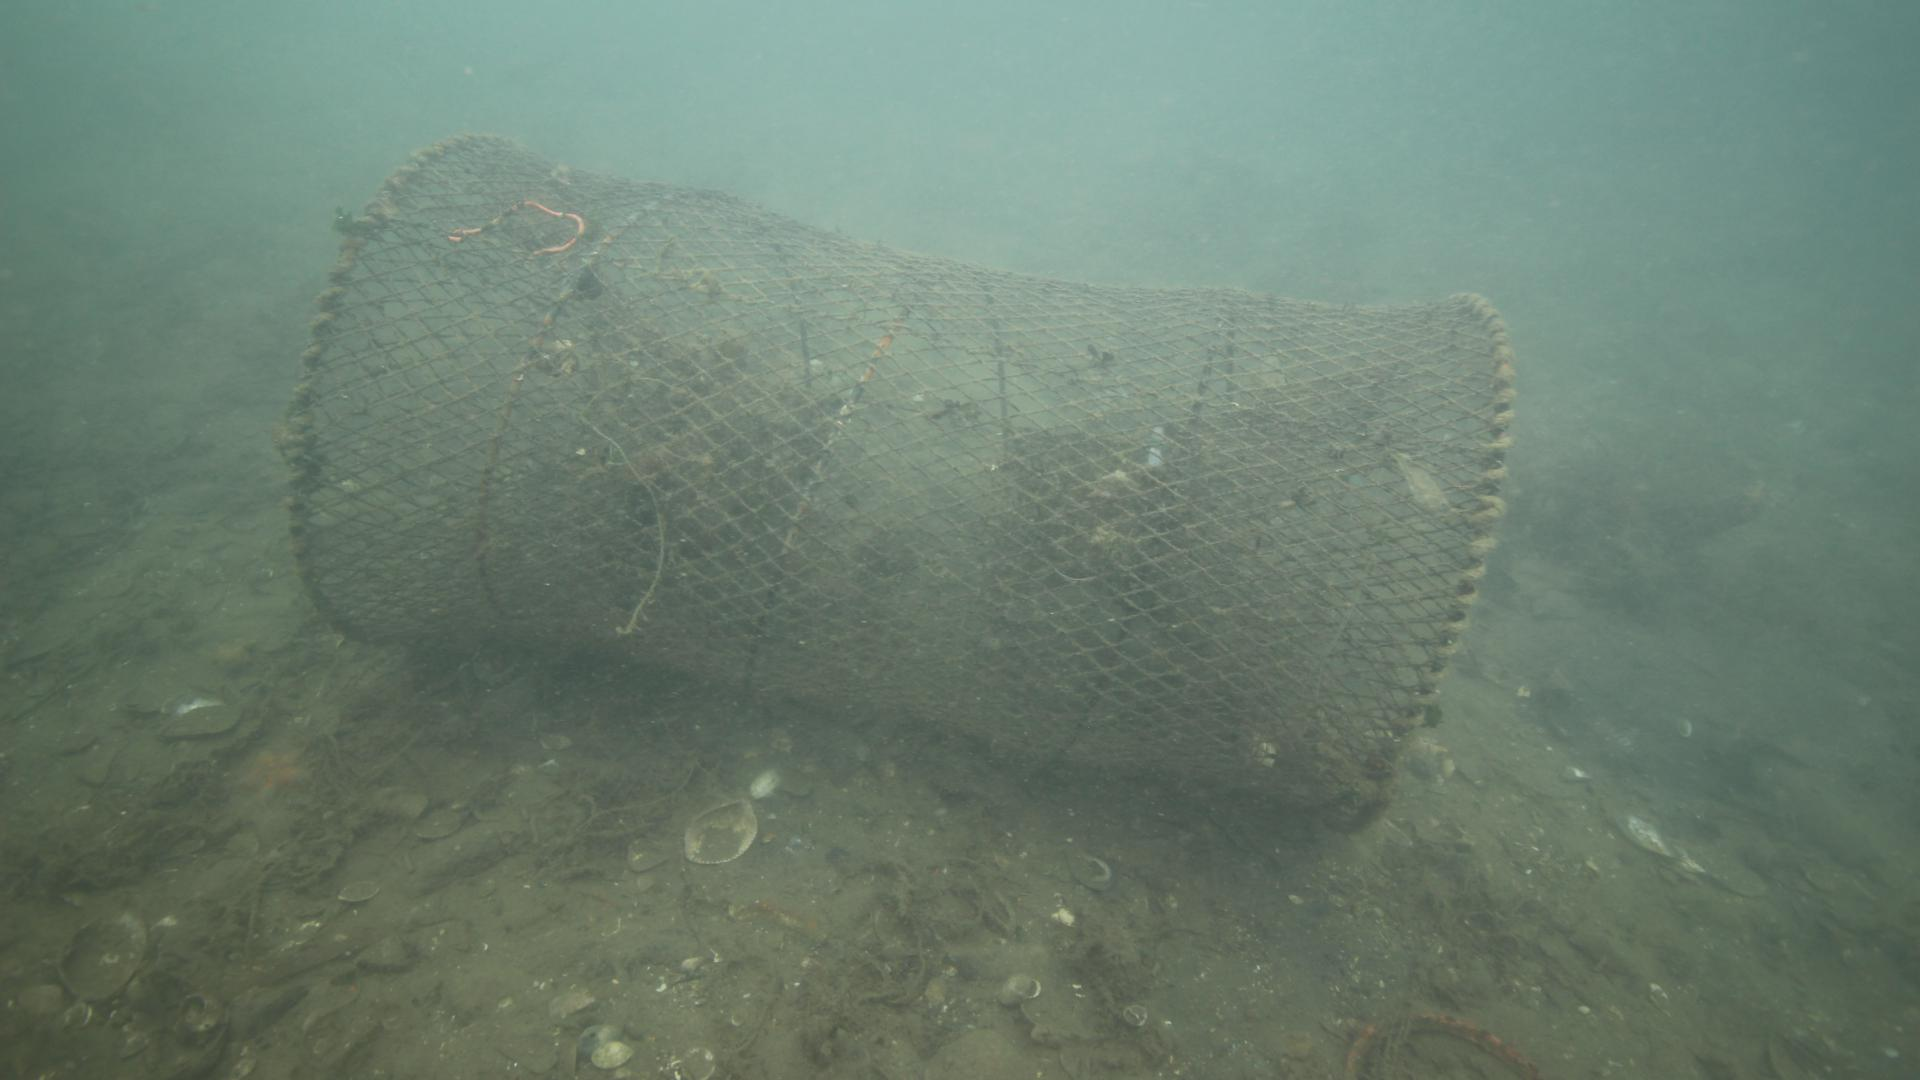spring fish trap: (284, 129, 1516, 825)
